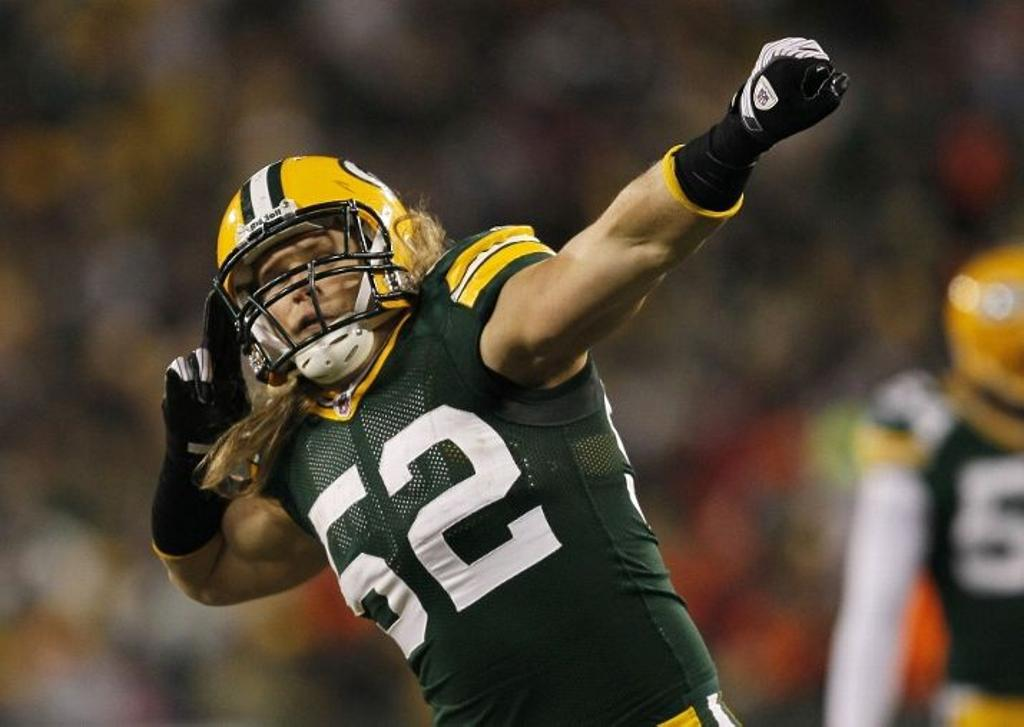face: (253, 201, 379, 367)
